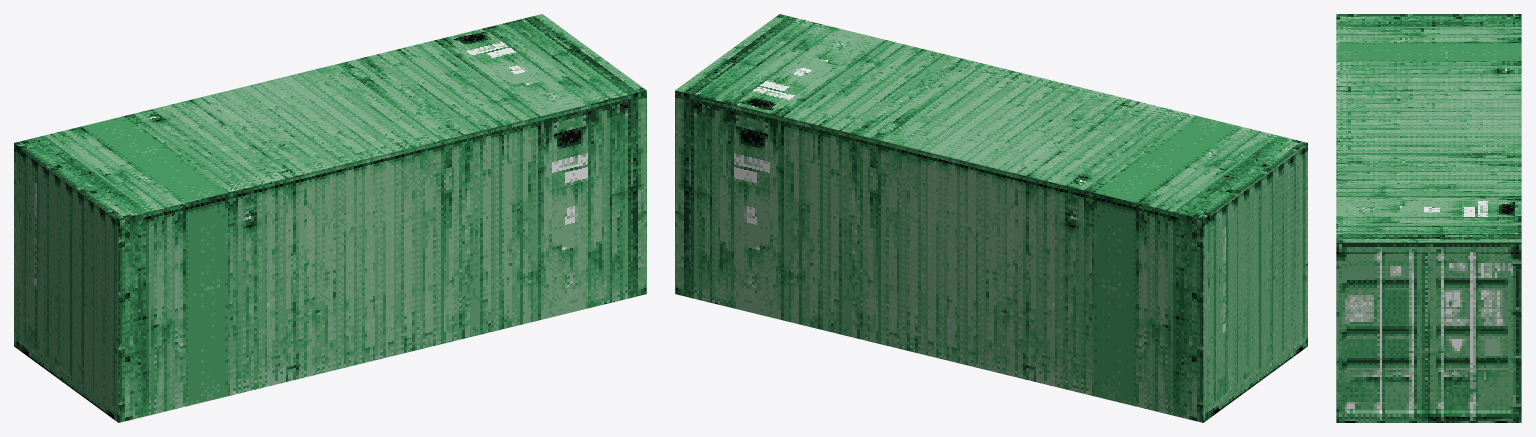
Rendered from Container_Green.glb.
3 views of the same model, side by side, from view 1: azimuth 30°, elevation 25°; view 2: azimuth 150°, elevation 25°; view 3: azimuth 270°, elevation 25° (orthographic). The views are drawn at different scales.
Visible parts, largest first — view 1: Container Green; view 2: Container Green; view 3: Container Green.
Boxes of the visible parts, x1,y1,x2,y2 form: Container Green: (14,14,646,422); Container Green: (675,14,1307,422); Container Green: (1336,14,1521,422).
Bounding box in the file's own units: 2.74 × 1.01 × 0.9388.
1 material, 1 textured.
